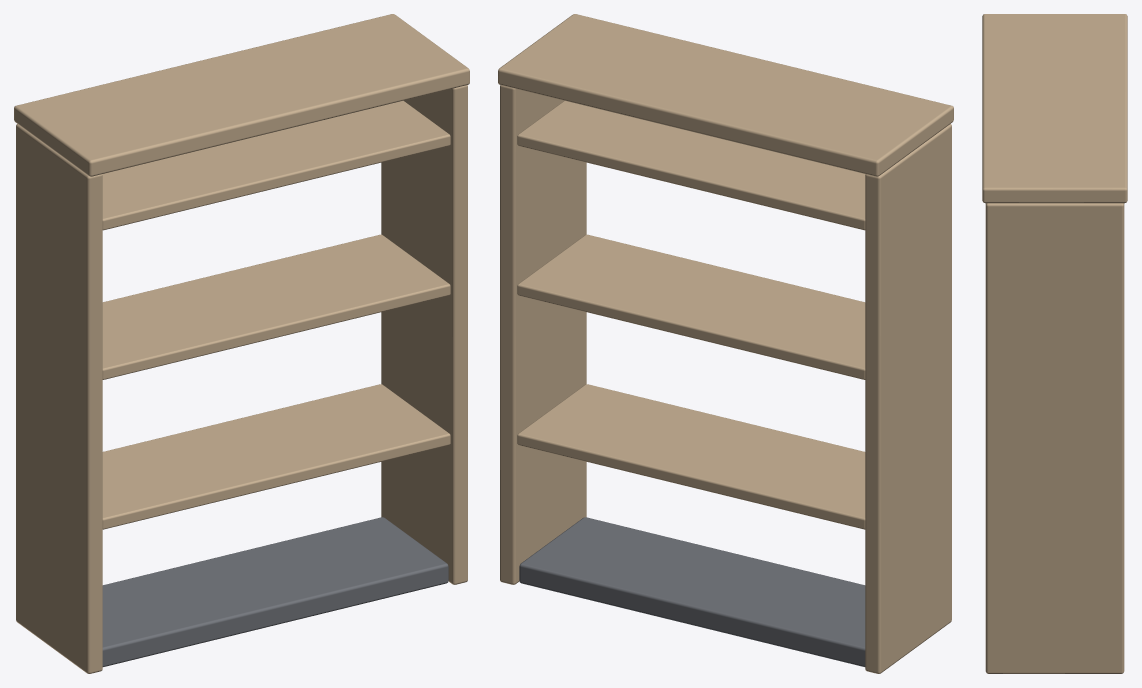
The model's file is human-anatomy-and-education-kit-specimen-shelf-ec96bd7d__38975.glb.
The picture shows the model from 3 angles, left to right: view 1: azimuth 30°, elevation 25°; view 2: azimuth 150°, elevation 25°; view 3: azimuth 270°, elevation 25°; orthographic projection. The views are drawn at different scales.
Visible parts, largest first — view 1: specimen-shelf; view 2: specimen-shelf; view 3: specimen-shelf.
Boxes of the visible parts, x1,y1,x2,y2 form: specimen-shelf: (14,14,469,673); specimen-shelf: (498,14,953,673); specimen-shelf: (982,14,1127,673).
Size of the model in its own units: 1.2 by 1.55 by 0.4199.
